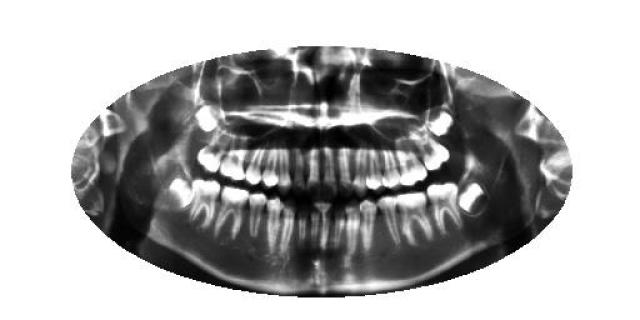Restorations: (456, 178, 490, 218), (167, 174, 195, 212)
